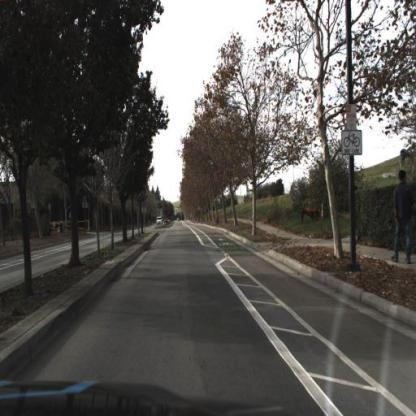car: (157, 217, 163, 226)
pedestrian: (393, 167, 414, 265)
